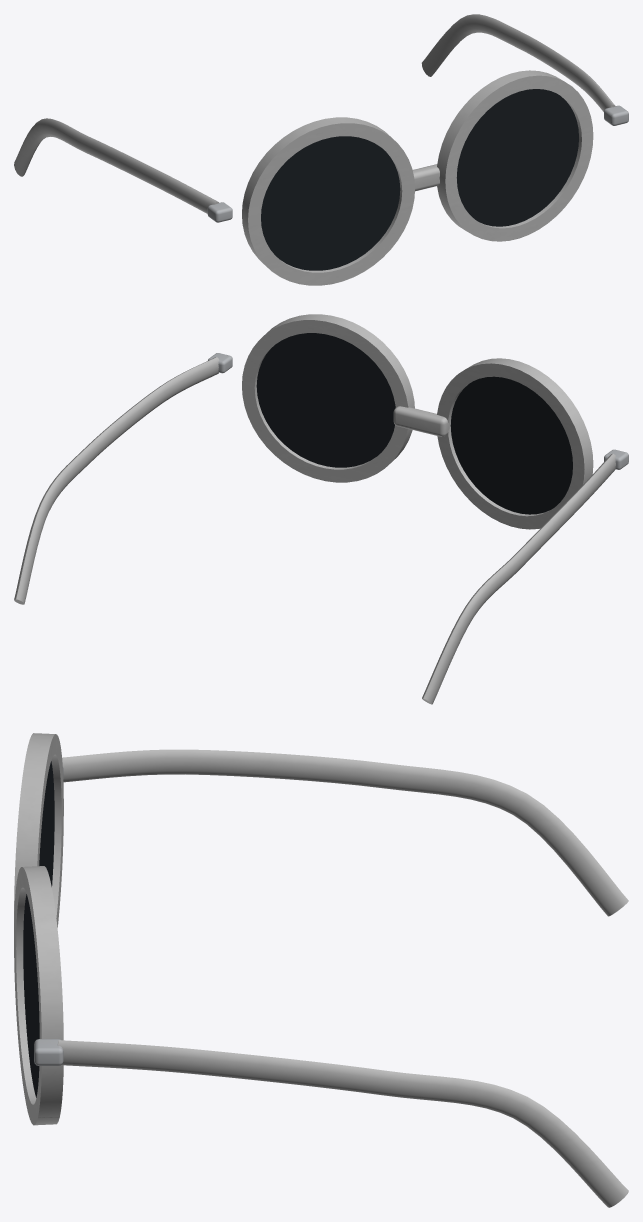
The model's file is SM_Glasses_Round.glb.
The picture shows the model from 3 angles, top to bottom: view 1: azimuth 30°, elevation 25°; view 2: azimuth 150°, elevation 25°; view 3: azimuth 270°, elevation 25°; orthographic projection. The views are drawn at different scales.
Parts seen in each view (by area): view 1: SM_Glasses_Round; view 2: SM_Glasses_Round; view 3: SM_Glasses_Round.
Boxes of the visible parts, bbox=[...] form: SM_Glasses_Round: bbox=[14, 14, 628, 285]; SM_Glasses_Round: bbox=[14, 314, 628, 704]; SM_Glasses_Round: bbox=[14, 733, 628, 1207].
Size of the model in its own units: 0.1509 by 0.056 by 0.1252.
3 materials, 3 textured.
